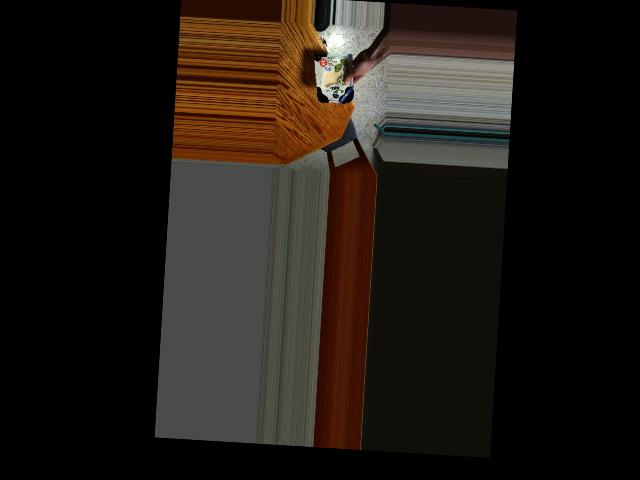cheese: (317, 43, 359, 111)
